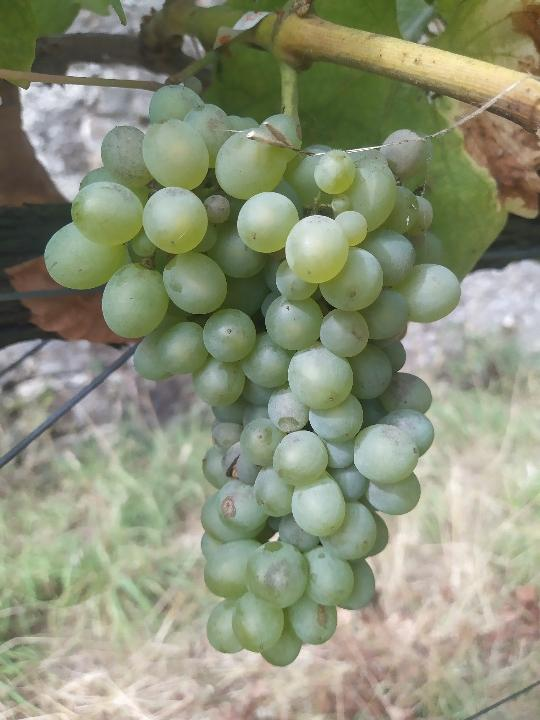grape: (43, 83, 468, 671)
